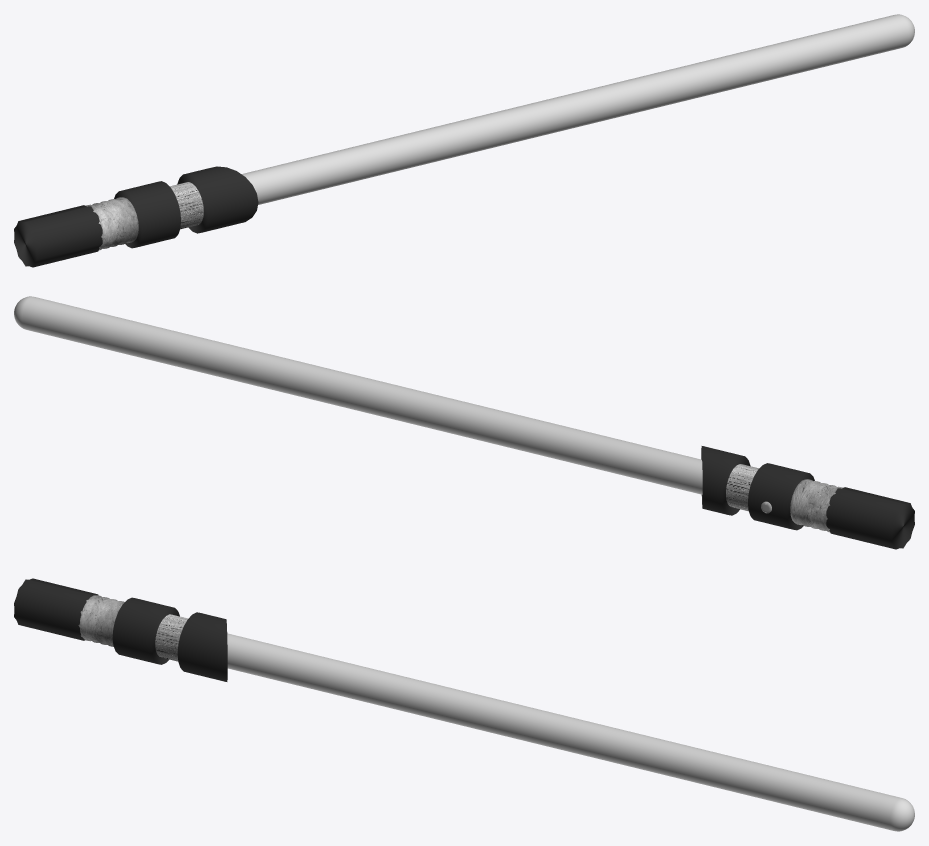
File: Saber_New.dae
3 renders of one model, top to bottom at view 1: azimuth 30°, elevation 25°; view 2: azimuth 150°, elevation 25°; view 3: azimuth 330°, elevation 25°, orthographic.
Parts seen in each view (by area): view 1: Cylinder.003; view 2: Cylinder.003; view 3: Cylinder.003.
Part boxes in pixels (x1,y1,x2,y2): Cylinder.003: [14, 14, 914, 267]; Cylinder.003: [14, 296, 914, 549]; Cylinder.003: [14, 578, 914, 831].
Size of the model in its own units: 3.97 by 0.2419 by 0.2385.
5 materials, 1 textured.
